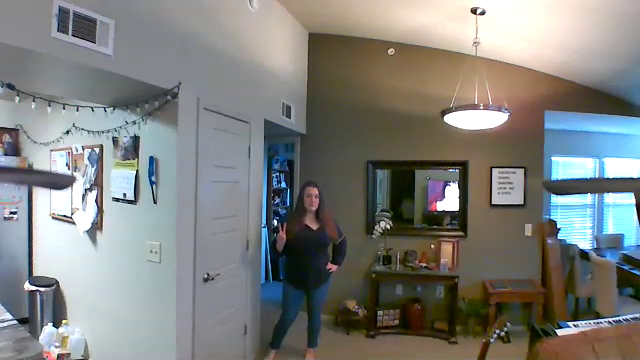peace: (272, 219, 291, 253)
